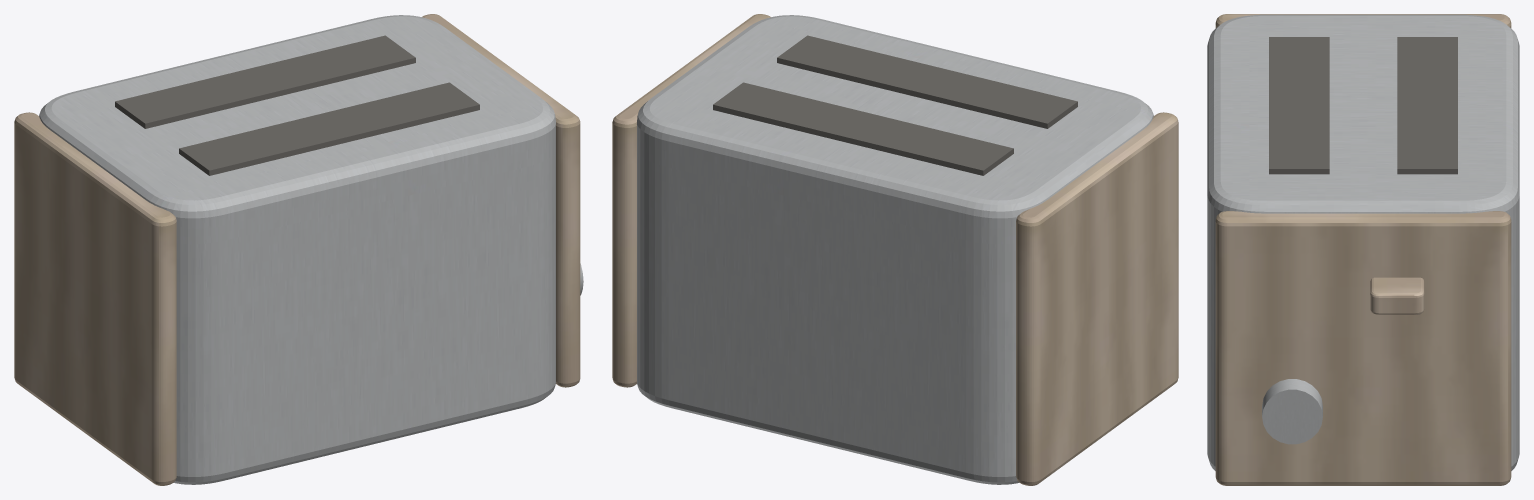
The model's file is kowhai-hero-kit-07.glb.
3 renders of one model, left to right at view 1: azimuth 30°, elevation 25°; view 2: azimuth 150°, elevation 25°; view 3: azimuth 270°, elevation 25°, orthographic.
Parts seen in each view (by area): view 1: Toaster_BrushedSteelBody, Toaster_AshEndPanel_1, Toaster_BreadSlot_1, Toaster_BreadSlot_2, Toaster_AshEndPanel_2; view 2: Toaster_BrushedSteelBody, Toaster_AshEndPanel_1, Toaster_BreadSlot_1, Toaster_BreadSlot_2, Toaster_AshEndPanel_2; view 3: Toaster_AshEndPanel_2, Toaster_BrushedSteelBody, Toaster_BreadSlot_1, Toaster_BreadSlot_2, Toaster_BrowningDial, Toaster_AshCarriageLever, Toaster_AshEndPanel_1.
Part boxes in pixels (<box>): Toaster_BrushedSteelBody: <box>39,15,555,484</box>; Toaster_AshEndPanel_1: <box>14,112,176,485</box>; Toaster_BreadSlot_1: <box>115,35,415,128</box>; Toaster_BreadSlot_2: <box>179,82,479,175</box>; Toaster_AshEndPanel_2: <box>422,14,580,387</box>; Toaster_BrushedSteelBody: <box>637,15,1153,484</box>; Toaster_AshEndPanel_1: <box>1016,112,1178,485</box>; Toaster_BreadSlot_1: <box>713,82,1013,175</box>; Toaster_BreadSlot_2: <box>777,35,1077,128</box>; Toaster_AshEndPanel_2: <box>612,14,770,387</box>; Toaster_AshEndPanel_2: <box>1215,211,1511,485</box>; Toaster_BrushedSteelBody: <box>1207,14,1519,470</box>; Toaster_BreadSlot_1: <box>1397,37,1457,174</box>; Toaster_BreadSlot_2: <box>1269,37,1329,174</box>; Toaster_BrowningDial: <box>1262,379,1322,444</box>; Toaster_AshCarriageLever: <box>1370,277,1424,314</box>; Toaster_AshEndPanel_1: <box>1215,14,1511,27</box>.
Size of the model in its own units: 0.316 by 0.1885 by 0.185.
Materials: 3 (2 with a texture image).
